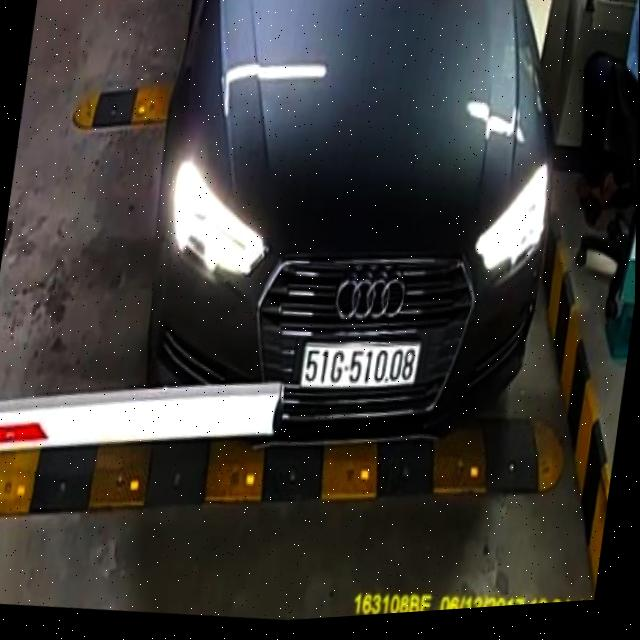car: (117, 0, 589, 499)
plate: (292, 329, 426, 404)
